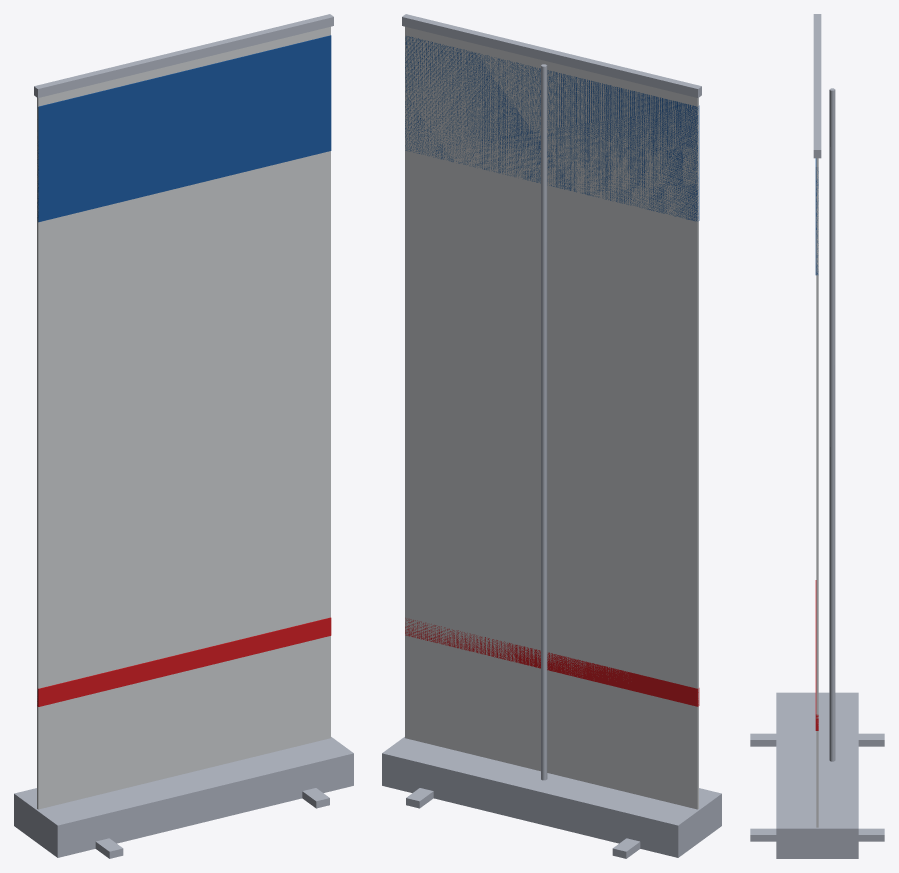
The model's file is evt-005.glb.
The picture shows the model from 3 angles, left to right: view 1: azimuth 30°, elevation 25°; view 2: azimuth 150°, elevation 25°; view 3: azimuth 270°, elevation 25°; orthographic projection. The views are drawn at different scales.
Parts seen in each view (by area): view 1: white, airline_blue, steel, accent_red; view 2: white, steel, airline_blue, accent_red; view 3: steel, white, accent_red, airline_blue.
Boxes of the visible parts, x1,y1,x2,y2 form: white: (37,26,330,809); airline_blue: (37,35,331,222); steel: (14,14,353,858); accent_red: (37,617,331,706); white: (405,26,698,809); steel: (382,14,721,858); airline_blue: (405,36,699,221); accent_red: (405,618,699,706); steel: (750,14,884,858); white: (816,158,818,827); accent_red: (815,580,818,730); airline_blue: (815,158,818,275).
Bounding box in the file's own units: 0.86 × 2.09 × 0.36.
